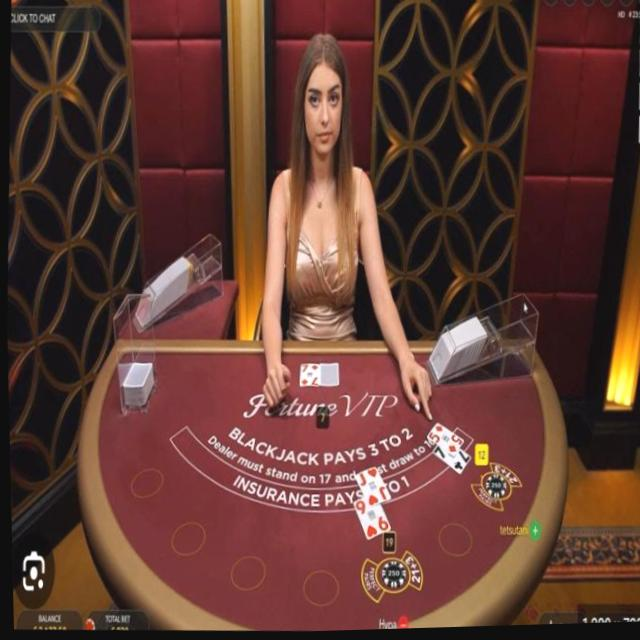Card-5: (425, 424, 461, 455)
Card-7: (430, 446, 468, 476), (297, 365, 317, 388)
Card-9: (351, 496, 388, 540)
Card-J: (352, 466, 388, 505)
